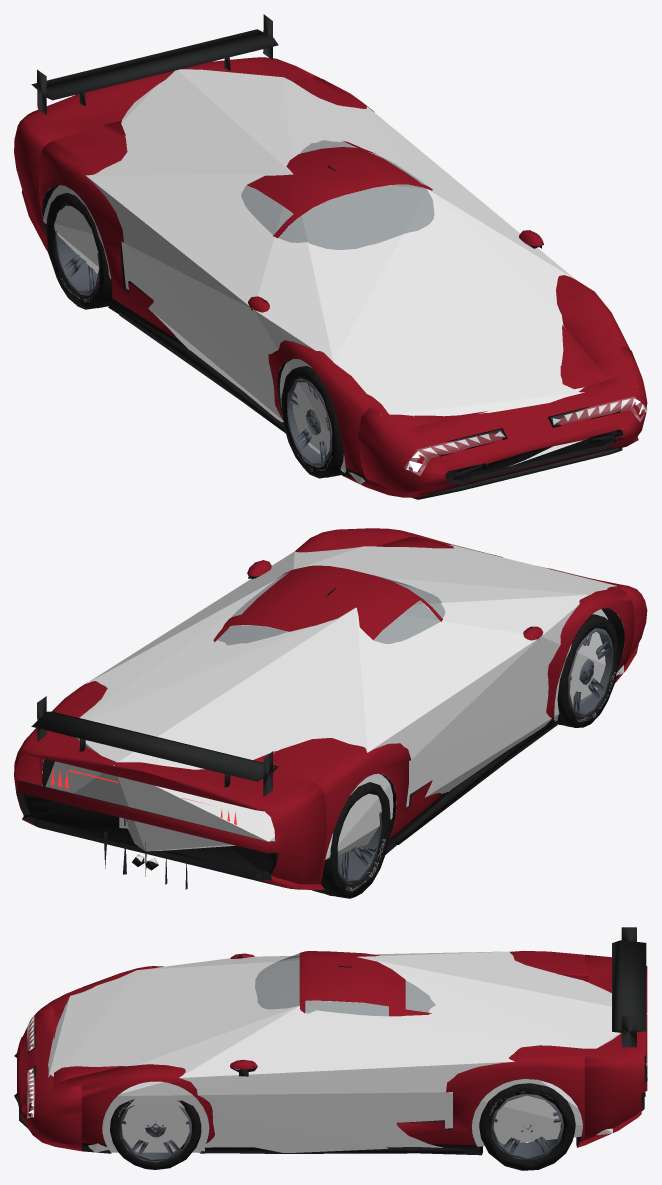
Rendered from noctra_sable_lod2.glb.
The picture shows the model from 3 angles, top to bottom: view 1: azimuth 30°, elevation 25°; view 2: azimuth 150°, elevation 25°; view 3: azimuth 270°, elevation 25°; orthographic projection. The views are drawn at different scales.
Parts seen in each view (by area): view 1: col_body, body, trim, glass, wheel_RR, wheel_FR, lights_front, underbody; view 2: col_body, body, trim, wheel_FR, wheel_RR, glass, underbody; view 3: col_body, body, trim, wheel_RL, glass, wheel_FL, lights_front.
Boxes of the visible parts, <box> form: col_body: <box>42,69,637,484</box>; body: <box>14,57,647,497</box>; trim: <box>31,14,622,499</box>; glass: <box>241,140,433,249</box>; wheel_RR: <box>46,193,112,309</box>; wheel_FR: <box>281,366,344,478</box>; lights_front: <box>404,396,647,475</box>; underbody: <box>42,184,625,497</box>; col_body: <box>45,544,623,859</box>; body: <box>14,528,647,889</box>; trim: <box>31,551,562,889</box>; wheel_FR: <box>555,614,619,727</box>; wheel_RR: <box>312,782,390,898</box>; glass: <box>218,572,444,645</box>; underbody: <box>34,608,624,889</box>; col_body: <box>48,951,647,1152</box>; body: <box>14,951,647,1155</box>; trim: <box>19,927,646,1153</box>; wheel_RL: <box>479,1083,575,1170</box>; glass: <box>255,953,435,1015</box>; wheel_FL: <box>110,1099,201,1169</box>; lights_front: <box>27,1014,34,1118</box>.
Bounding box in the file's own units: 1.94 × 1.19 × 4.54.
11 materials, 3 textured.
